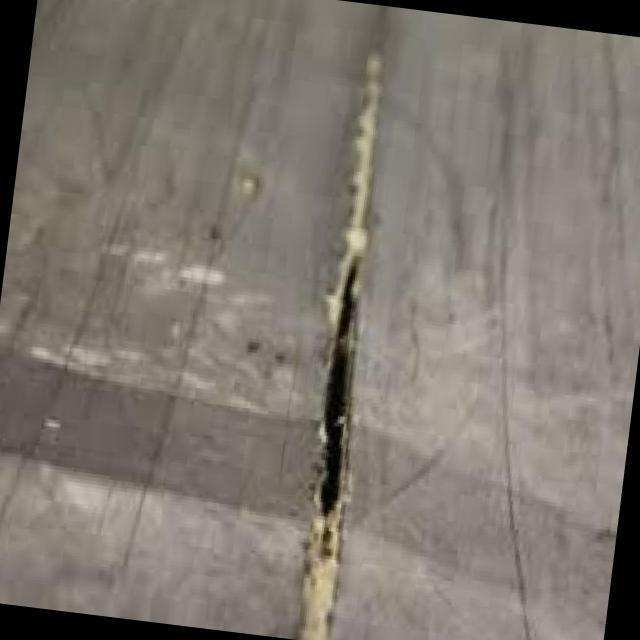Tear: (303, 245, 372, 572)
